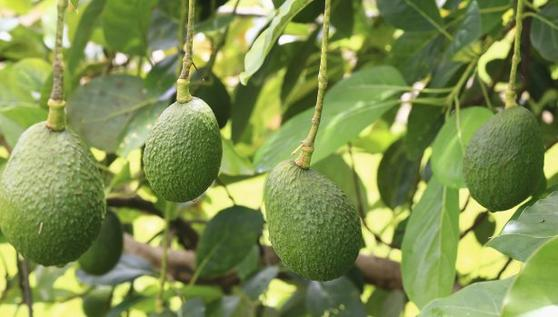avocado: (3, 121, 102, 267), (257, 158, 368, 288), (138, 93, 224, 208)
